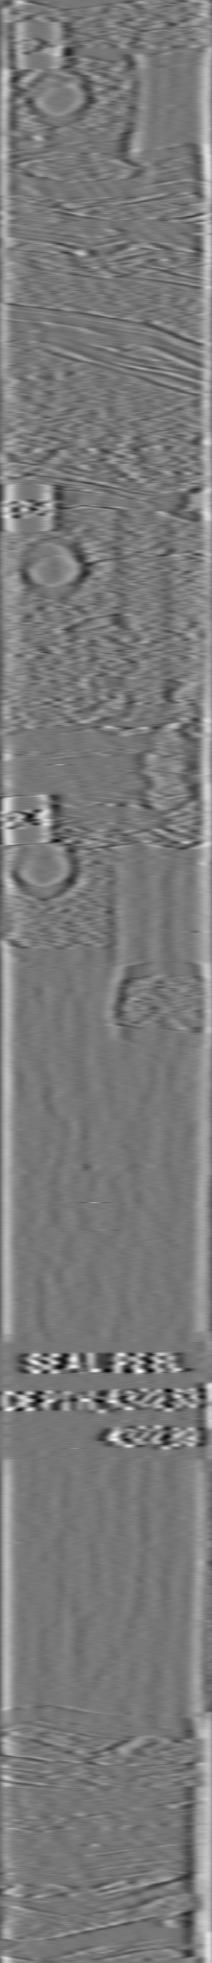hplug: (15, 530, 90, 608), (3, 838, 82, 906), (23, 66, 97, 131)
vplug: (109, 505, 178, 721), (102, 833, 196, 953), (120, 33, 203, 167)
